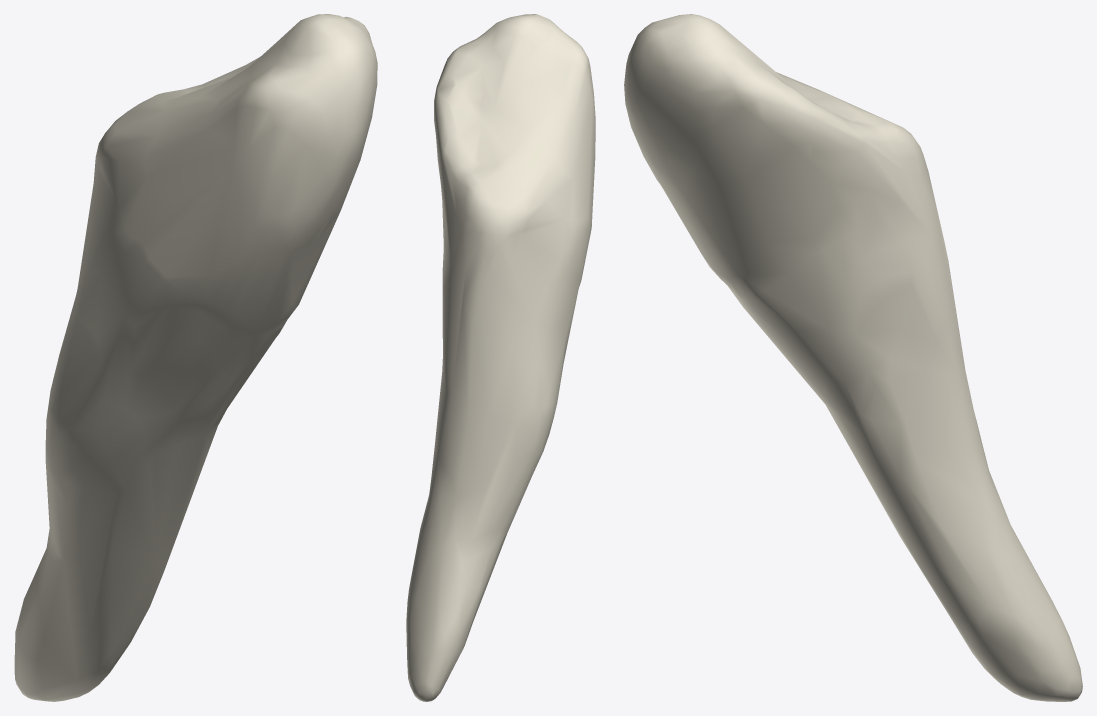
The picture shows the model from 3 angles, left to right: view 1: azimuth 30°, elevation 25°; view 2: azimuth 150°, elevation 25°; view 3: azimuth 270°, elevation 25°; orthographic projection. The views are drawn at different scales.
Visible parts, largest first — view 1: ZA_b72289064ee56bfb; view 2: ZA_b72289064ee56bfb; view 3: ZA_b72289064ee56bfb.
Boxes of the visible parts, box(x1,y1,x2,y2) form: ZA_b72289064ee56bfb: box(14, 14, 377, 701); ZA_b72289064ee56bfb: box(406, 14, 595, 701); ZA_b72289064ee56bfb: box(624, 14, 1082, 701).
Bounding box in the file's own units: 0.00771 × 0.0262 × 0.0152.
